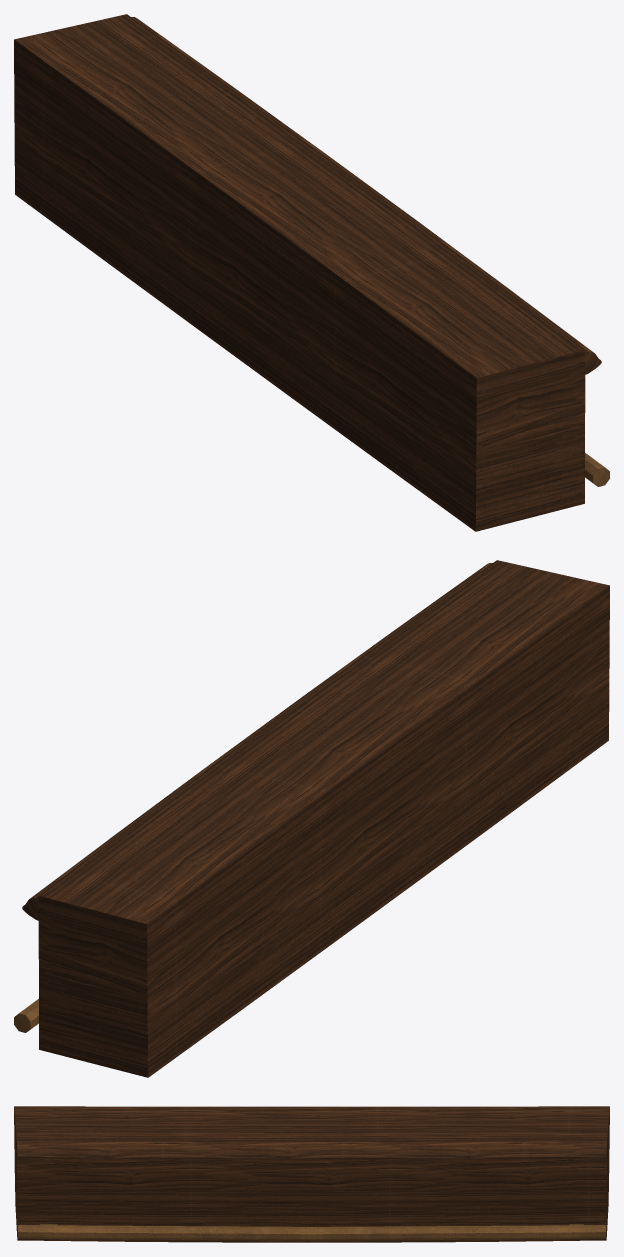
Rendered from bench_mesh.fbx.
3 views of the same model, one above another, from view 1: azimuth 30°, elevation 25°; view 2: azimuth 150°, elevation 25°; view 3: azimuth 270°, elevation 25° (orthographic). The views are drawn at different scales.
Parts seen in each view (by area): view 1: Mesh_Bench:Mesh_Bench:pCylinder1; view 2: Mesh_Bench:Mesh_Bench:pCylinder1; view 3: Mesh_Bench:Mesh_Bench:pCylinder1.
Part boxes in pixels (<box>): Mesh_Bench:Mesh_Bench:pCylinder1: <box>14,14,609,531</box>; Mesh_Bench:Mesh_Bench:pCylinder1: <box>14,560,609,1077</box>; Mesh_Bench:Mesh_Bench:pCylinder1: <box>14,1106,609,1242</box>.
Size of the model in its own units: 151 by 162 by 869.
